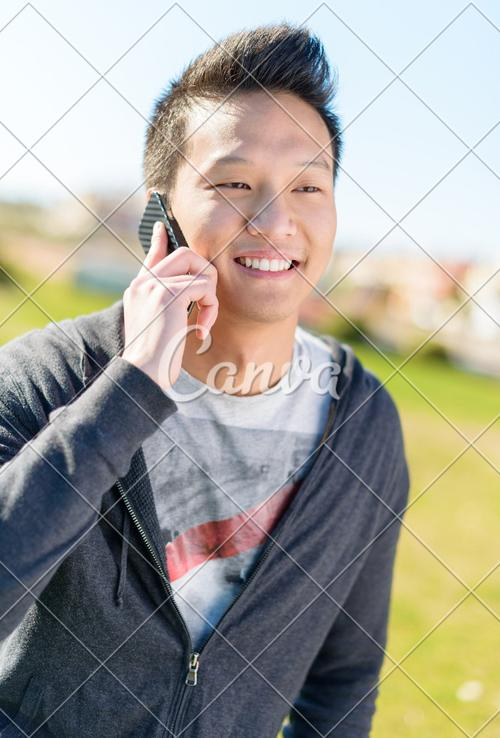calling: (117, 184, 221, 384)
